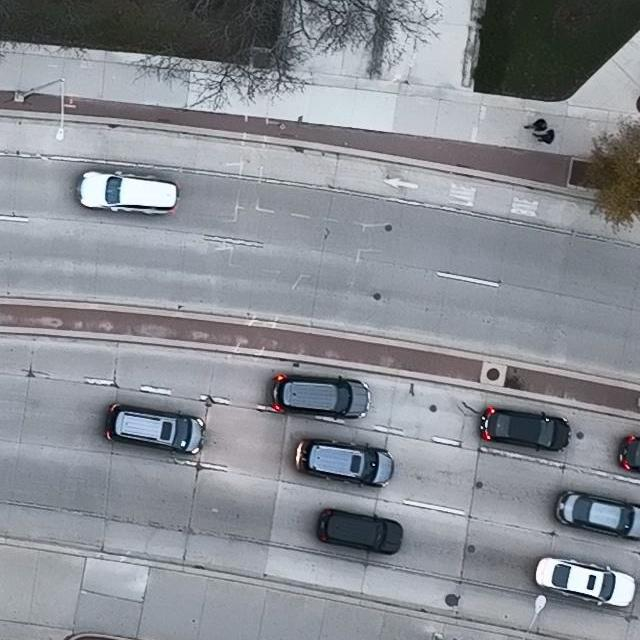car: (105, 403, 205, 456), (534, 557, 636, 608), (295, 439, 395, 488), (78, 170, 179, 216), (271, 374, 370, 420), (554, 490, 640, 541), (315, 508, 404, 556), (479, 407, 571, 451), (617, 432, 640, 473)
